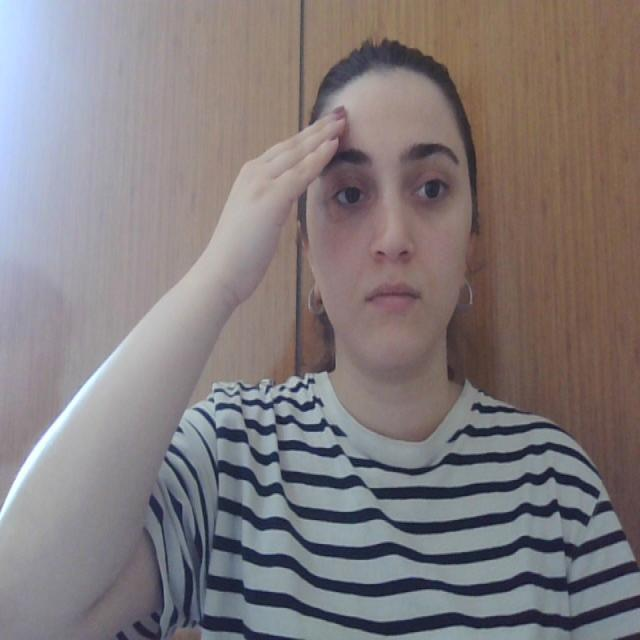Merhaba: (204, 77, 366, 350)
